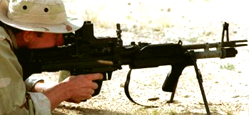rifle: (107, 37, 249, 93)
rifle in hand: (41, 31, 248, 103)
